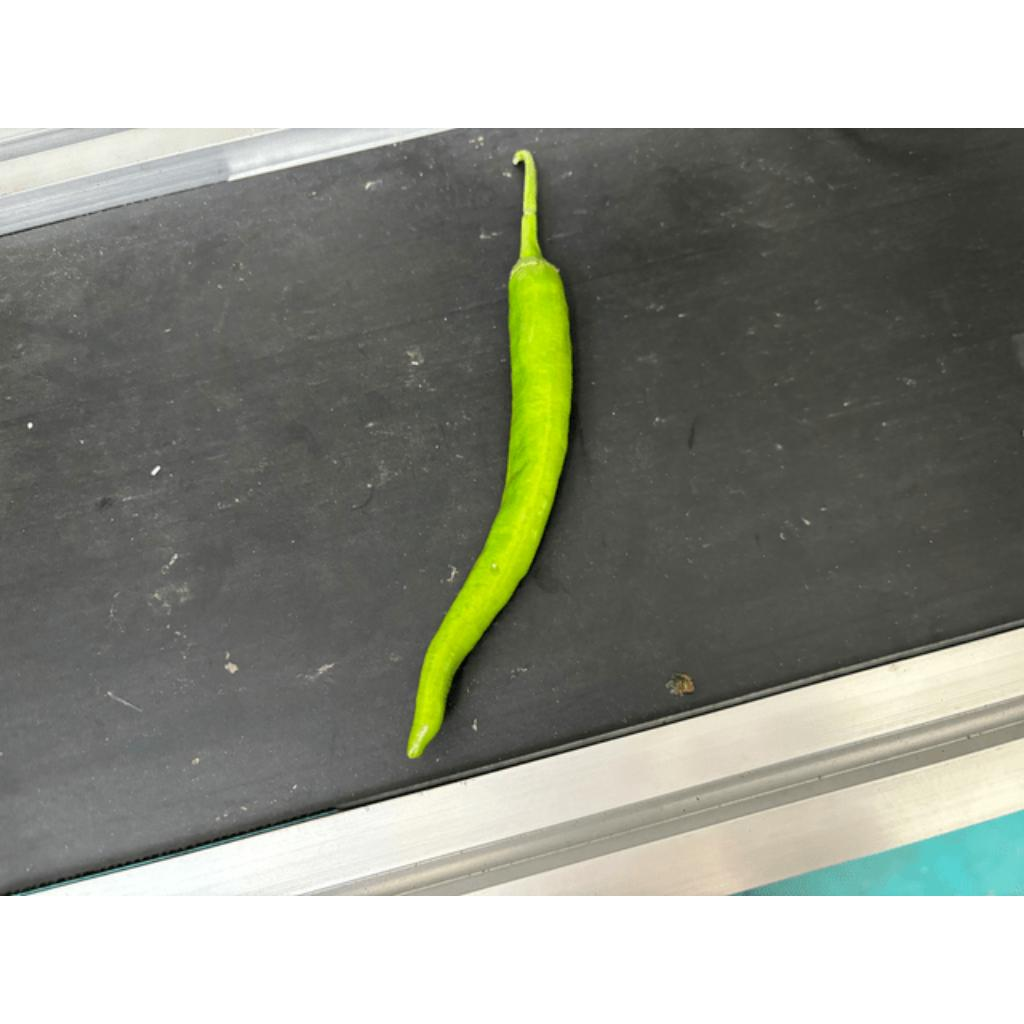chili: (402, 254, 579, 766)
